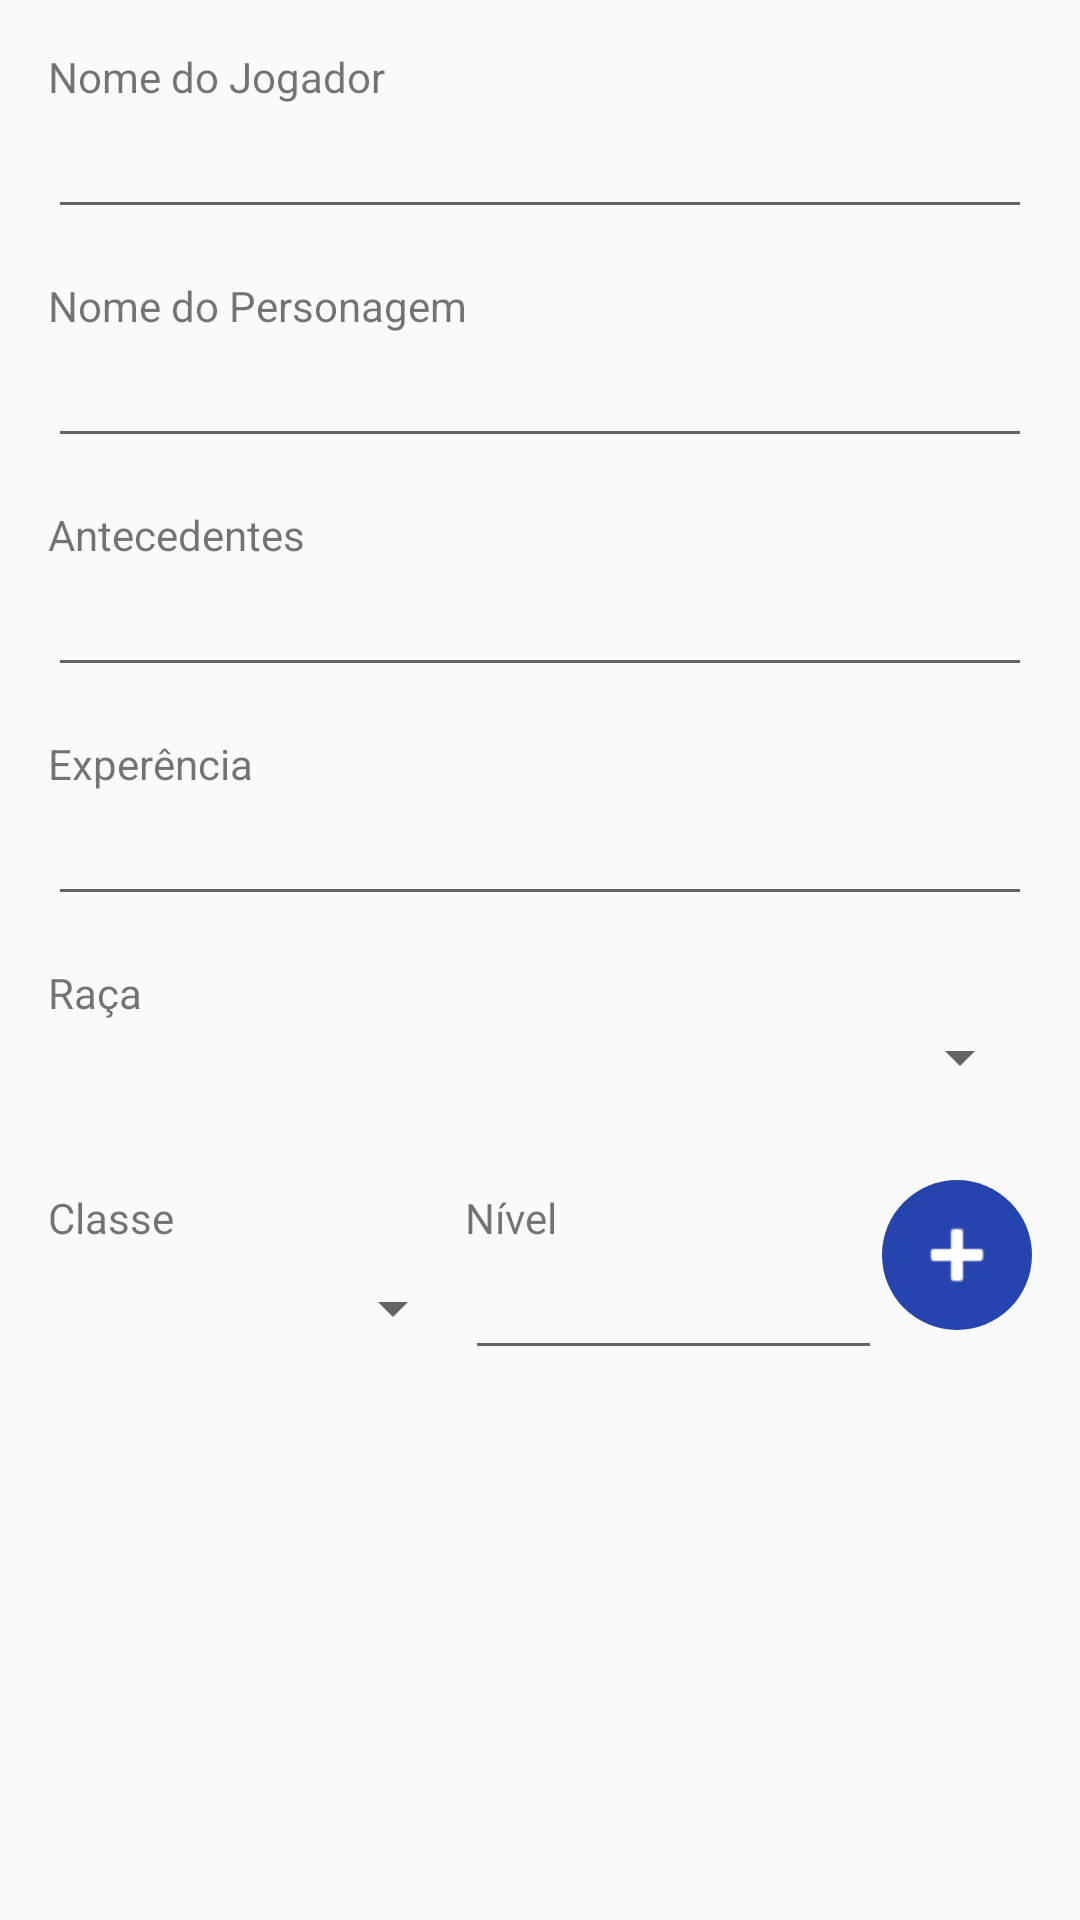

Where icons sit on this 1080 x 1920 app screen, as (x1, y1, x2, y2):
add: (882, 1180, 1032, 1330)
